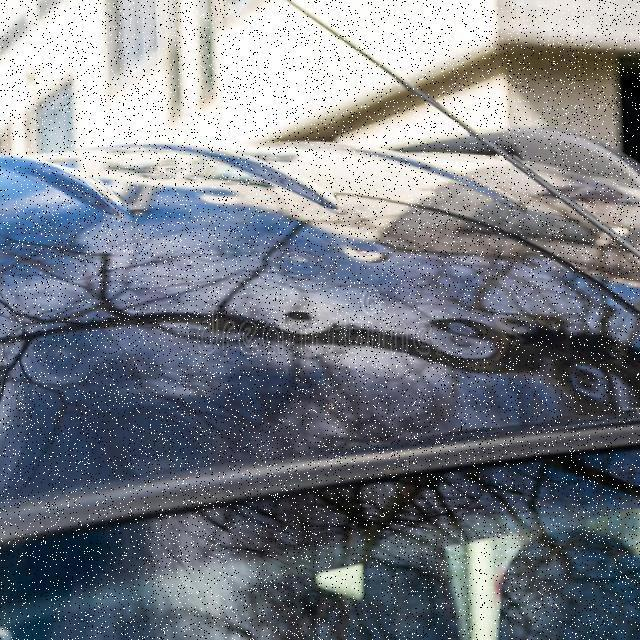roof-dent: (2, 152, 638, 546)
